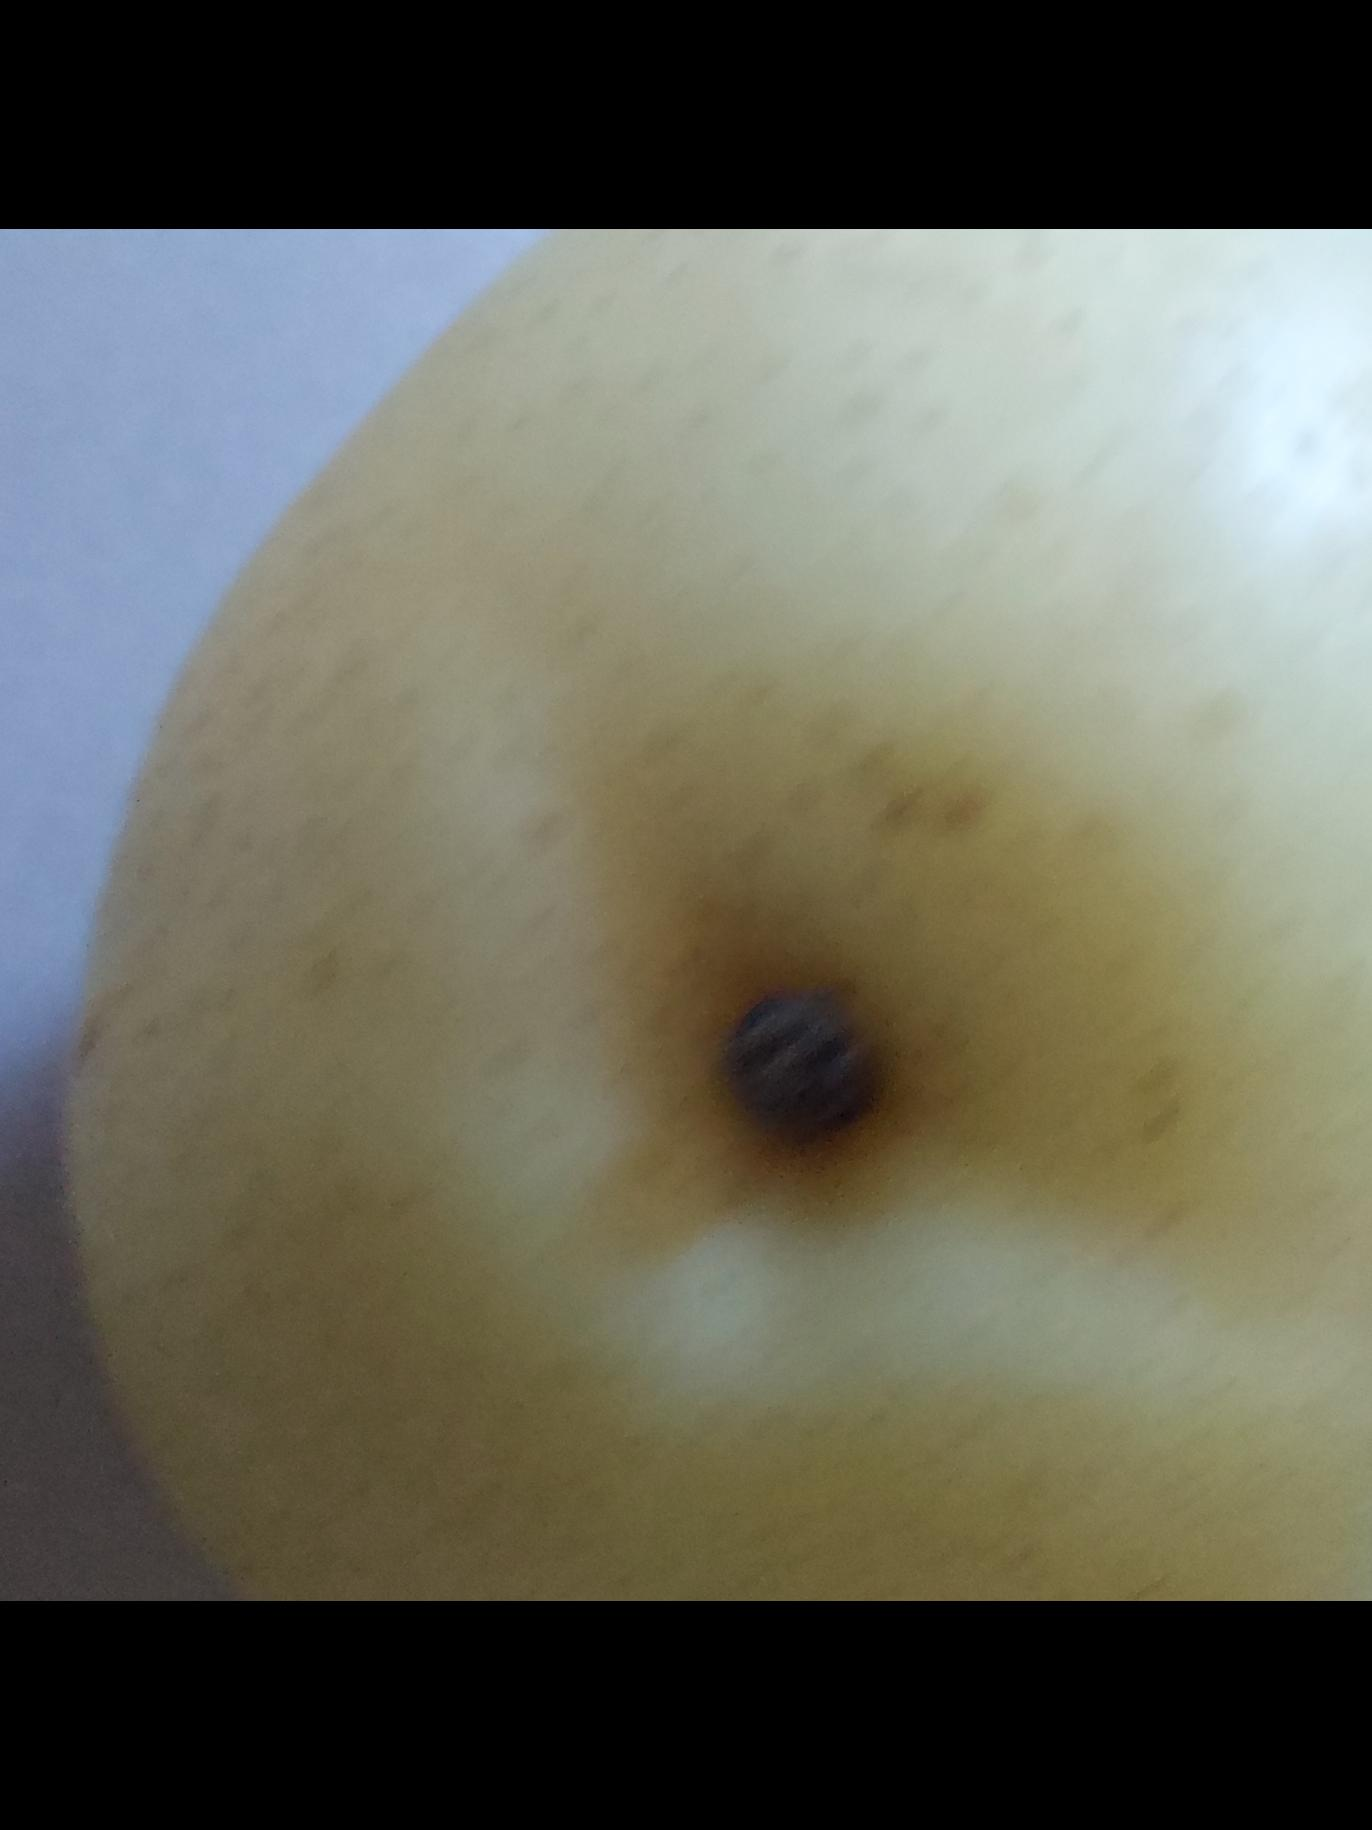Good Pear: (32, 229, 1372, 1601)
